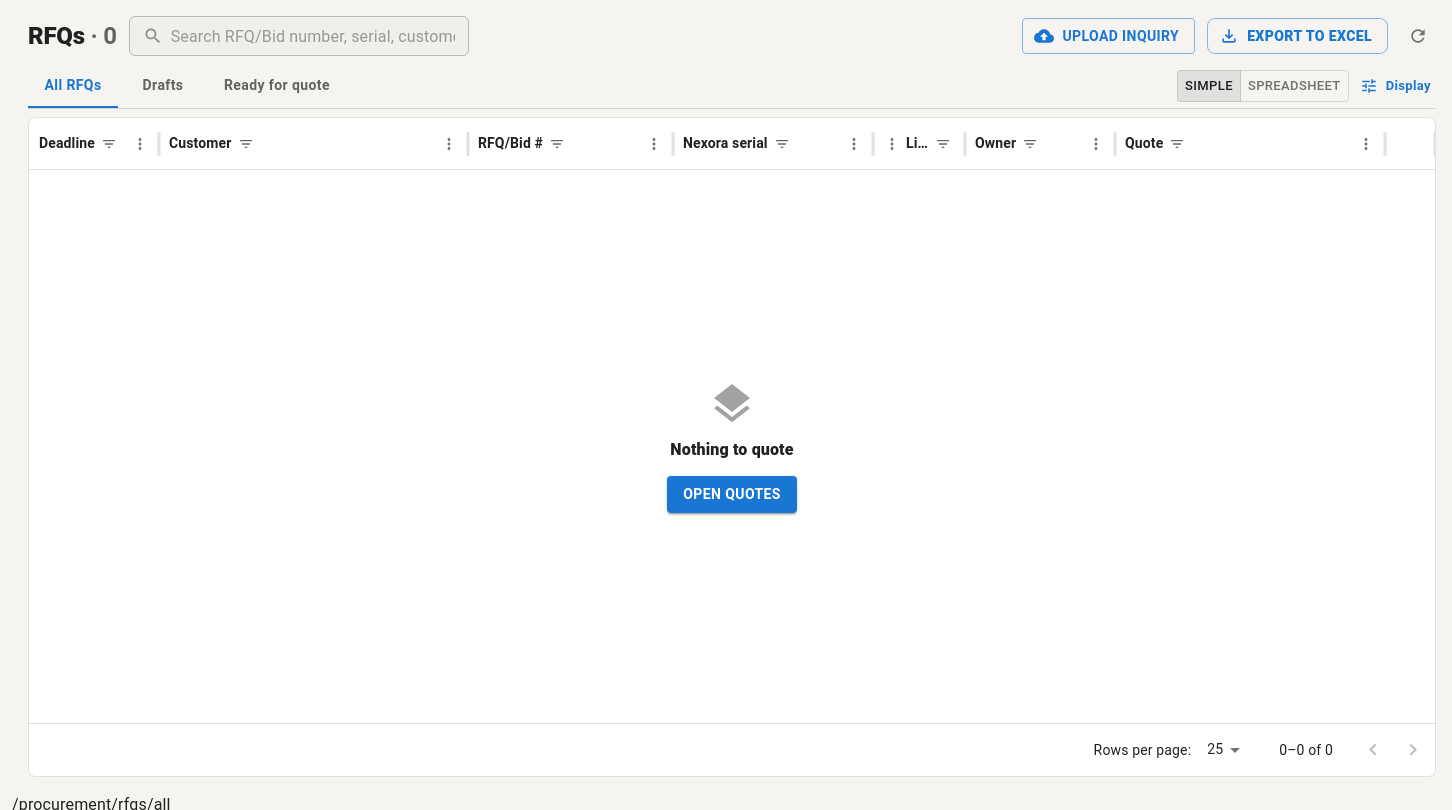
Scenario: AllRFQsPage — opens on the RFQs still to quote › says "Nothing to quote" and opens the quotes when every RFQ is already quoted
This screenshot has width=1452, height=810.
Expected: the text "Nothing to quote" is shown, [670,438,794,462]
Click the button "Open quotes" at (732,495), box [667,476,797,513]
(page scrolled)
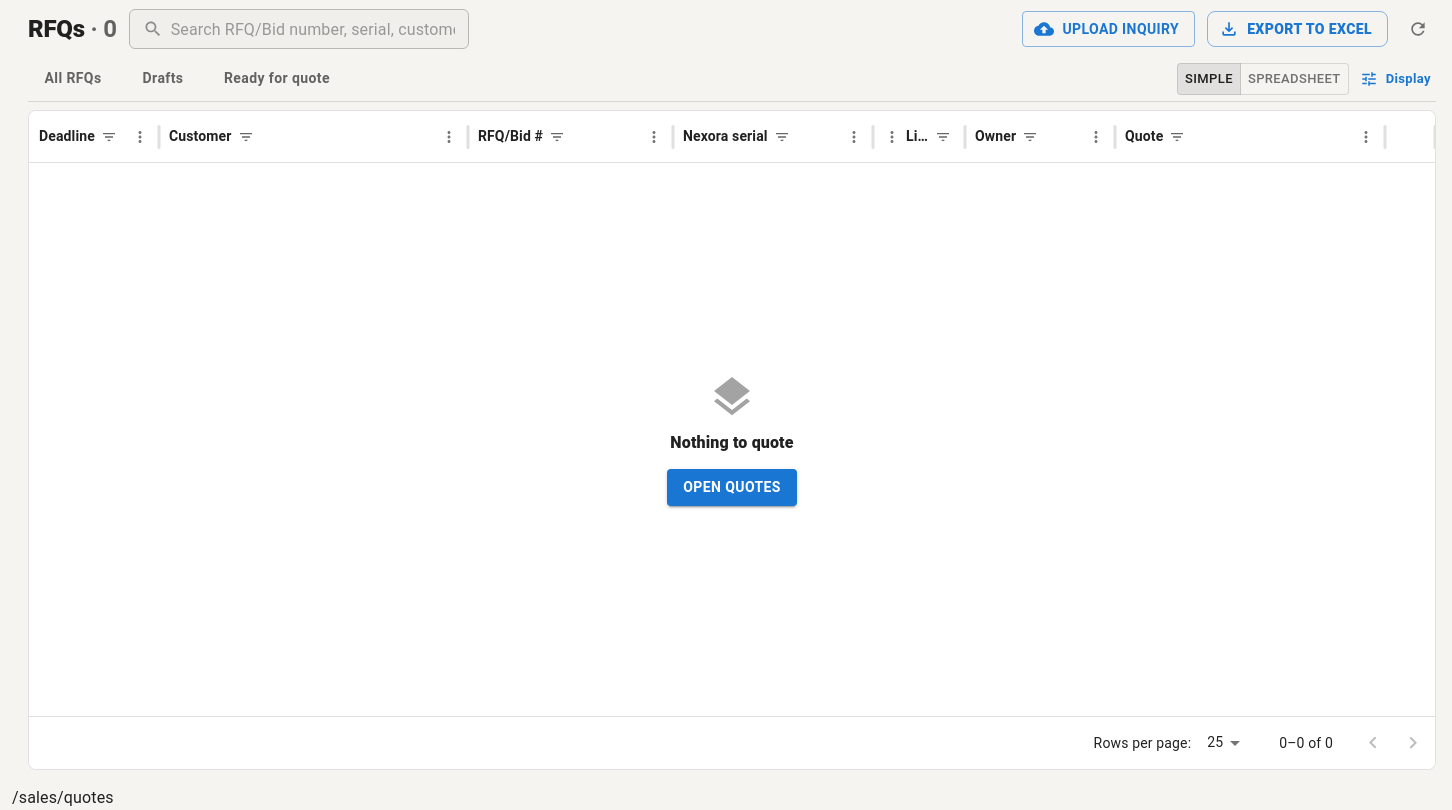
Expected: the text with test id "address" reads "/sales/quotes", [12,788,114,807]
